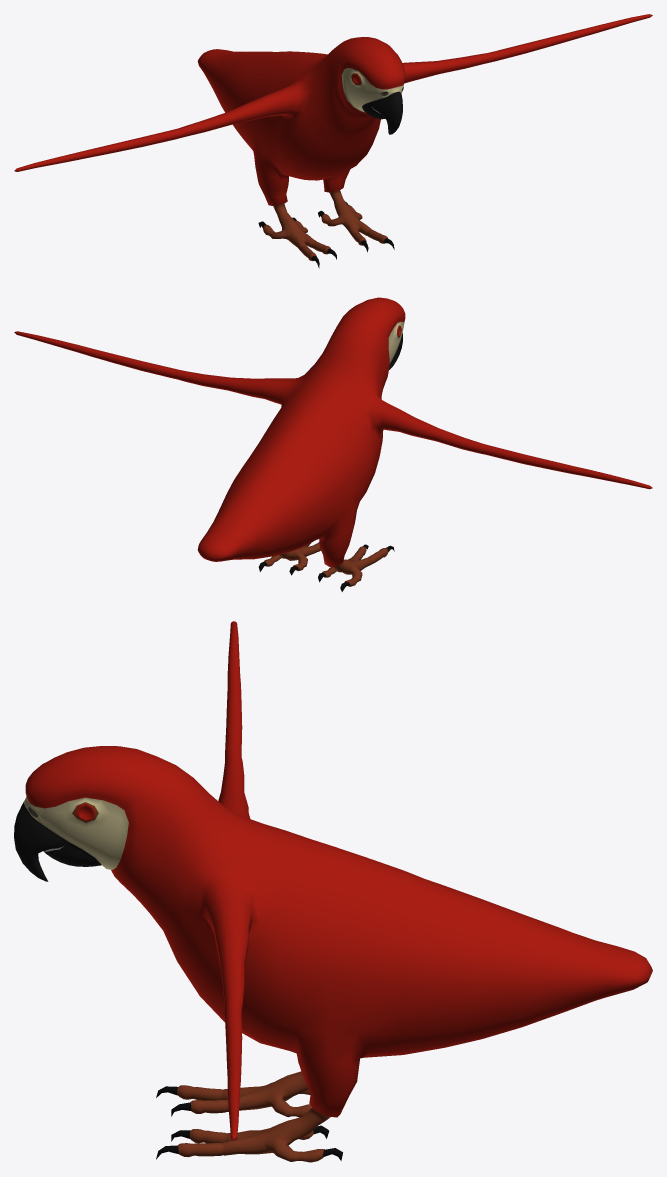
The model's file is ara_macaw.obj.
3 views of the same model, one above another, from view 1: azimuth 30°, elevation 25°; view 2: azimuth 150°, elevation 25°; view 3: azimuth 270°, elevation 25° (orthographic). The views are drawn at different scales.
Parts seen in each view (by area): view 1: macaw; view 2: macaw; view 3: macaw.
Part boxes in pixels (x1,y1,x2,y2): macaw: (14,14,652,268); macaw: (14,297,652,591); macaw: (14,621,652,1162).
Size of the model in its own units: 0.8521 by 0.2903 by 0.4435.
